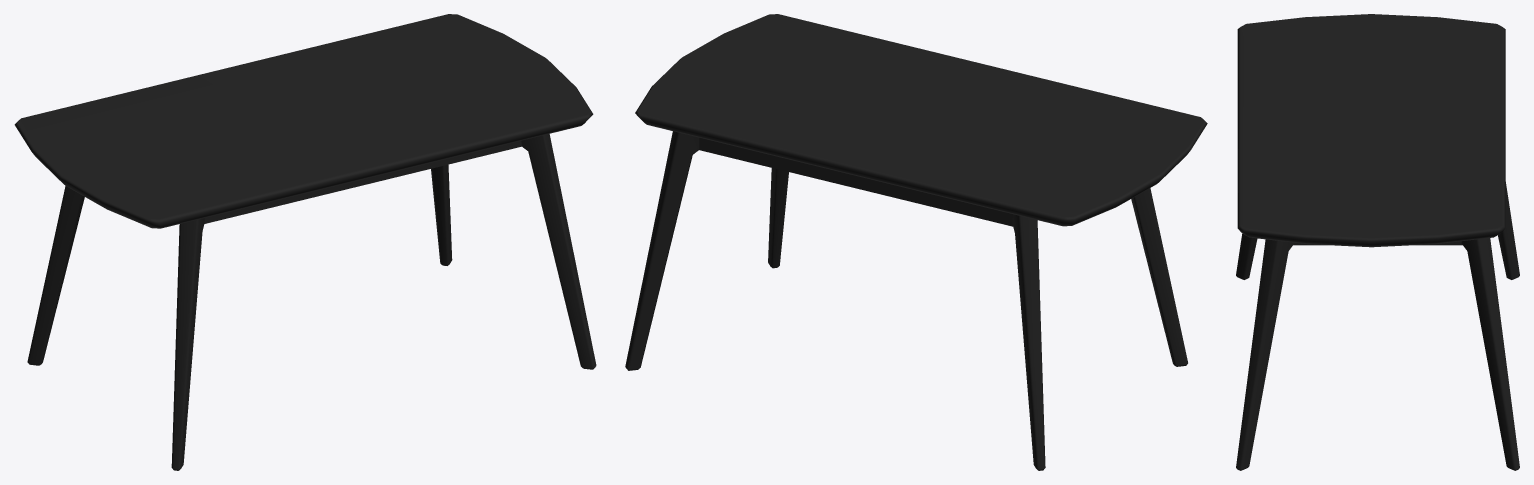
The model's file is kitchen_table_005.fbx.
The picture shows the model from 3 angles, left to right: view 1: azimuth 30°, elevation 25°; view 2: azimuth 150°, elevation 25°; view 3: azimuth 270°, elevation 25°; orthographic projection. The views are drawn at different scales.
Parts seen in each view (by area): view 1: kitchen_table_005; view 2: kitchen_table_005; view 3: kitchen_table_005.
Part boxes in pixels (x1,y1,x2,y2): kitchen_table_005: (14,14,596,470); kitchen_table_005: (625,14,1207,470); kitchen_table_005: (1236,14,1519,470).
Size of the model in its own units: 195 by 103 by 97.31.
